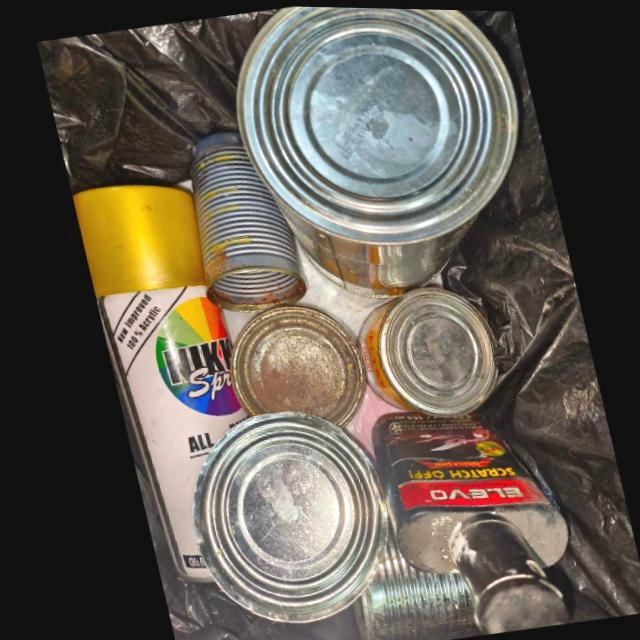aluminum: (234, 5, 517, 298), (69, 186, 239, 584), (183, 411, 380, 624), (187, 131, 303, 312), (353, 284, 493, 417), (224, 305, 361, 427), (342, 535, 473, 640)
plastic_bottle: (364, 410, 560, 633)
